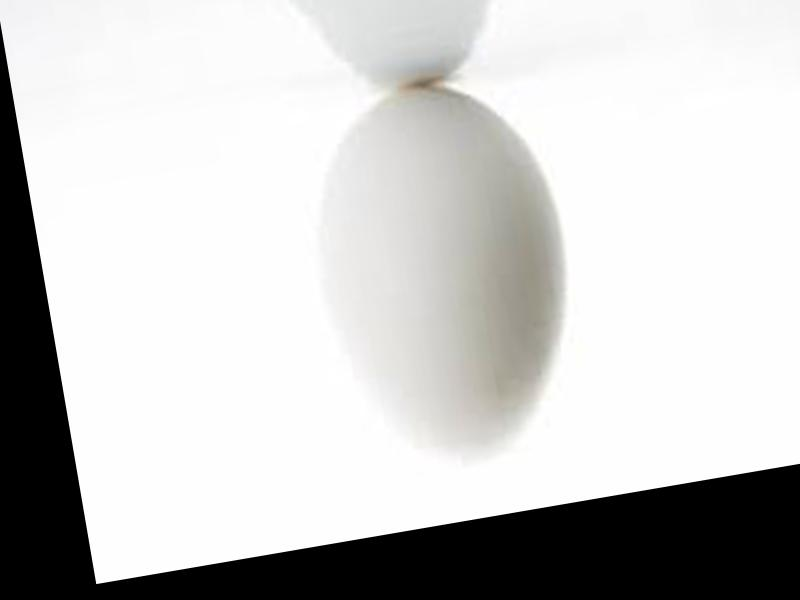Eggs: (300, 66, 596, 477)
